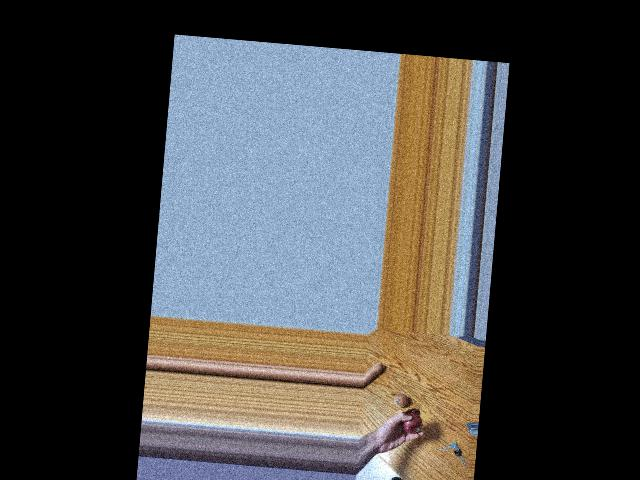onion: (402, 411, 422, 435)
